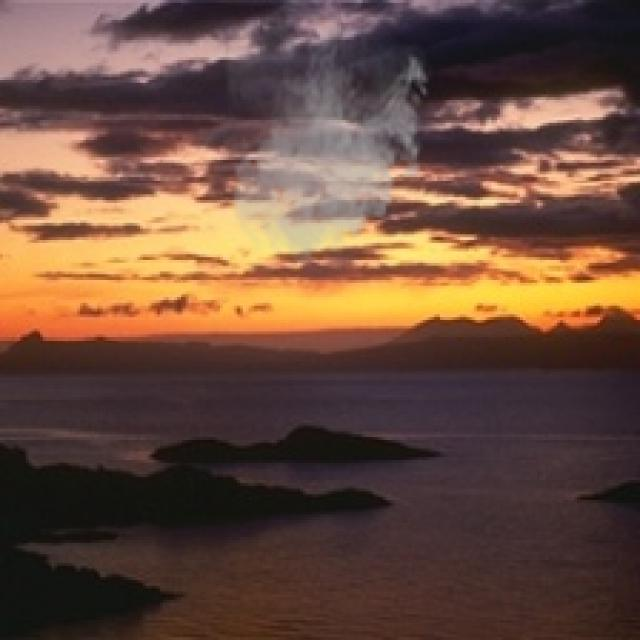Smoke: (226, 25, 434, 272)
